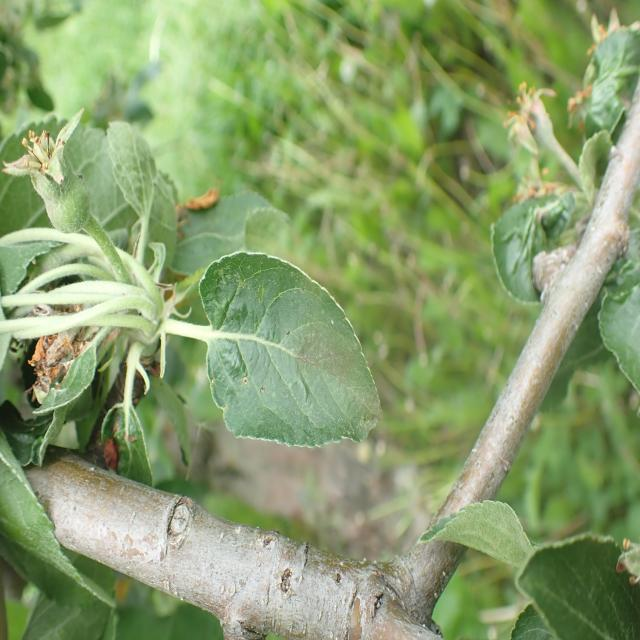scab: (234, 256, 388, 458)
